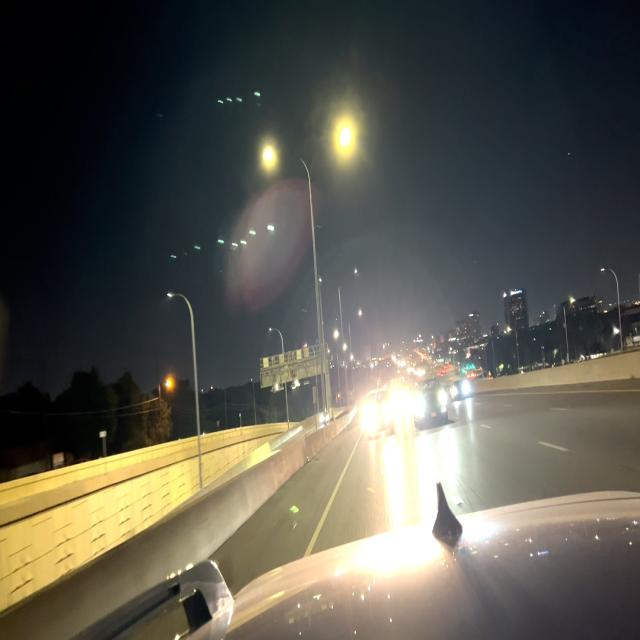back-of-sign: (261, 346, 326, 387)
